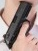pistol: (3, 1, 33, 48)
